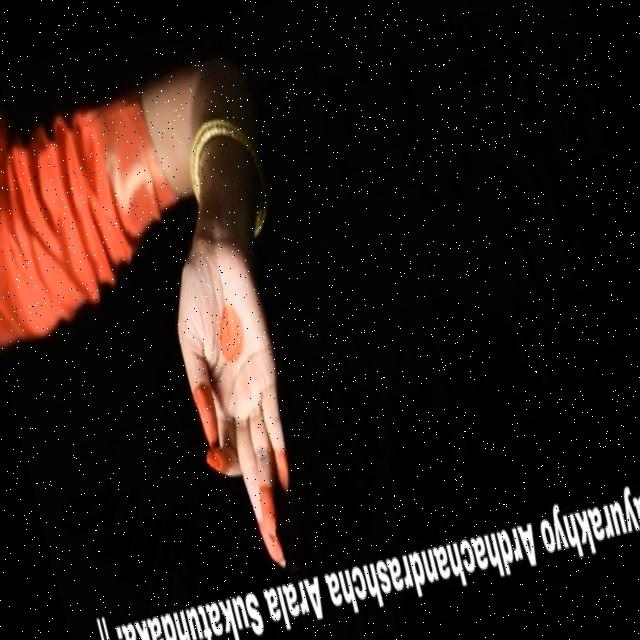Arala: (134, 234, 340, 590)
bangle: (162, 88, 286, 229)
text: (84, 459, 640, 640)
